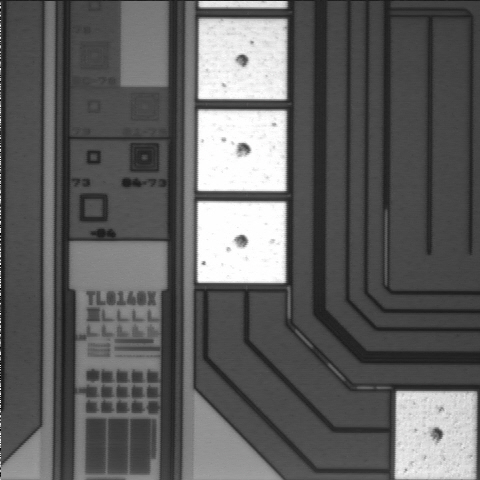pad: (197, 201, 286, 283), (198, 110, 286, 191), (198, 19, 287, 99)
